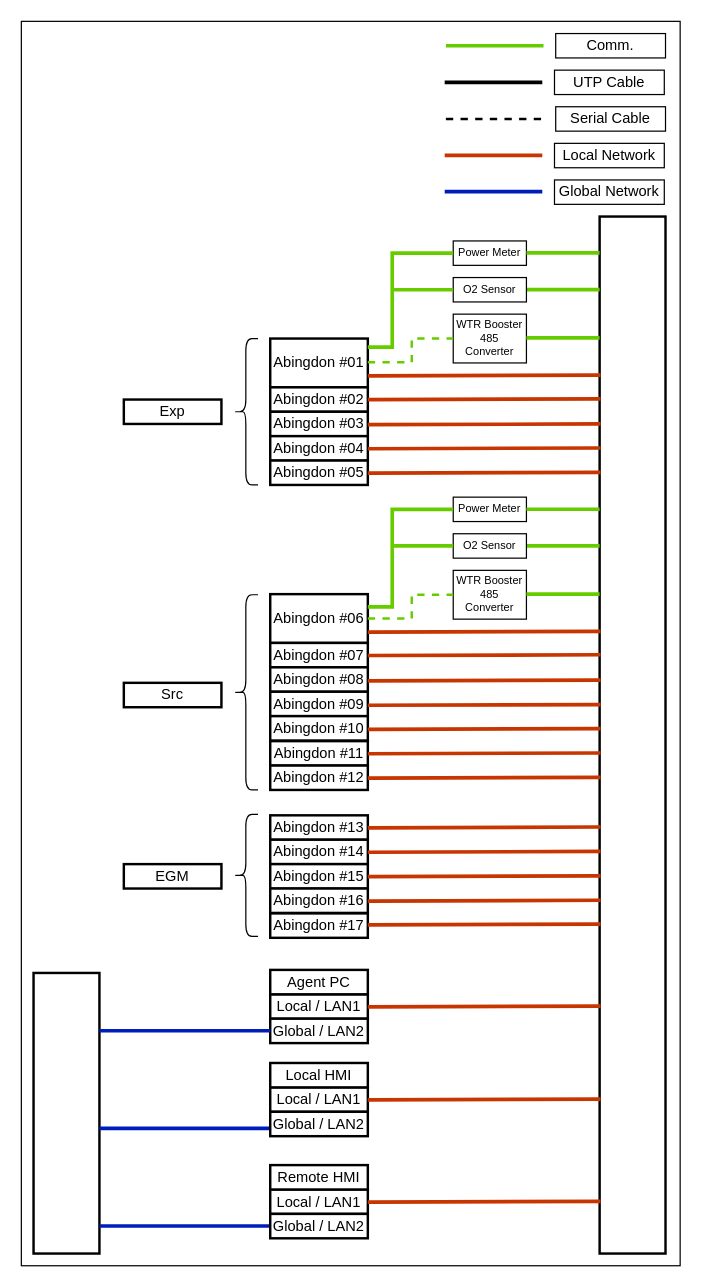
The diagram is 702 pixels wide and 1287 high, and some of its shapes have lost their labels. Each missing label, with the box of its shape:
Edwards Global Network: (32, 971, 100, 1254)
Switching Hub: (598, 215, 666, 1254)
